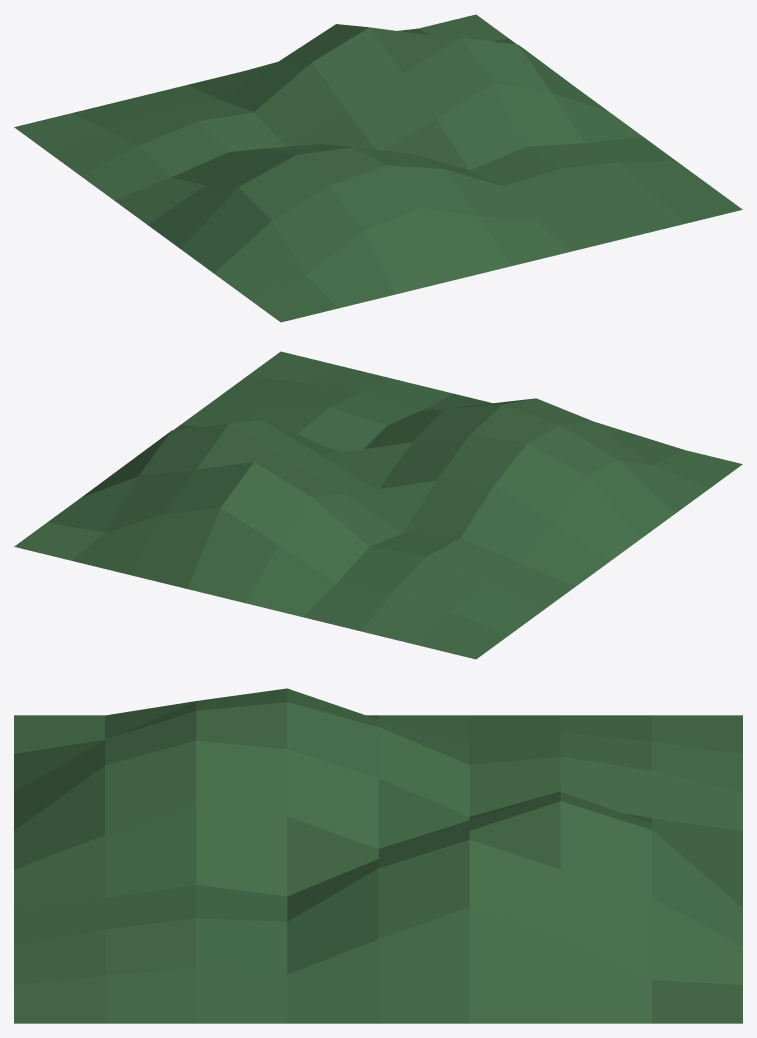
File: Terrain_19_Light_Green.fbx
The picture shows the model from 3 angles, top to bottom: view 1: azimuth 30°, elevation 25°; view 2: azimuth 150°, elevation 25°; view 3: azimuth 270°, elevation 25°; orthographic projection. The views are drawn at different scales.
Visible parts, largest first — view 1: Terrain_19_Light_Green; view 2: Terrain_19_Light_Green; view 3: Terrain_19_Light_Green.
Boxes of the visible parts, box(x1,y1,x2,y2) form: Terrain_19_Light_Green: box(14, 14, 742, 322); Terrain_19_Light_Green: box(14, 351, 742, 659); Terrain_19_Light_Green: box(14, 688, 742, 1023).
Size of the model in its own units: 8000 by 1294 by 8000.
